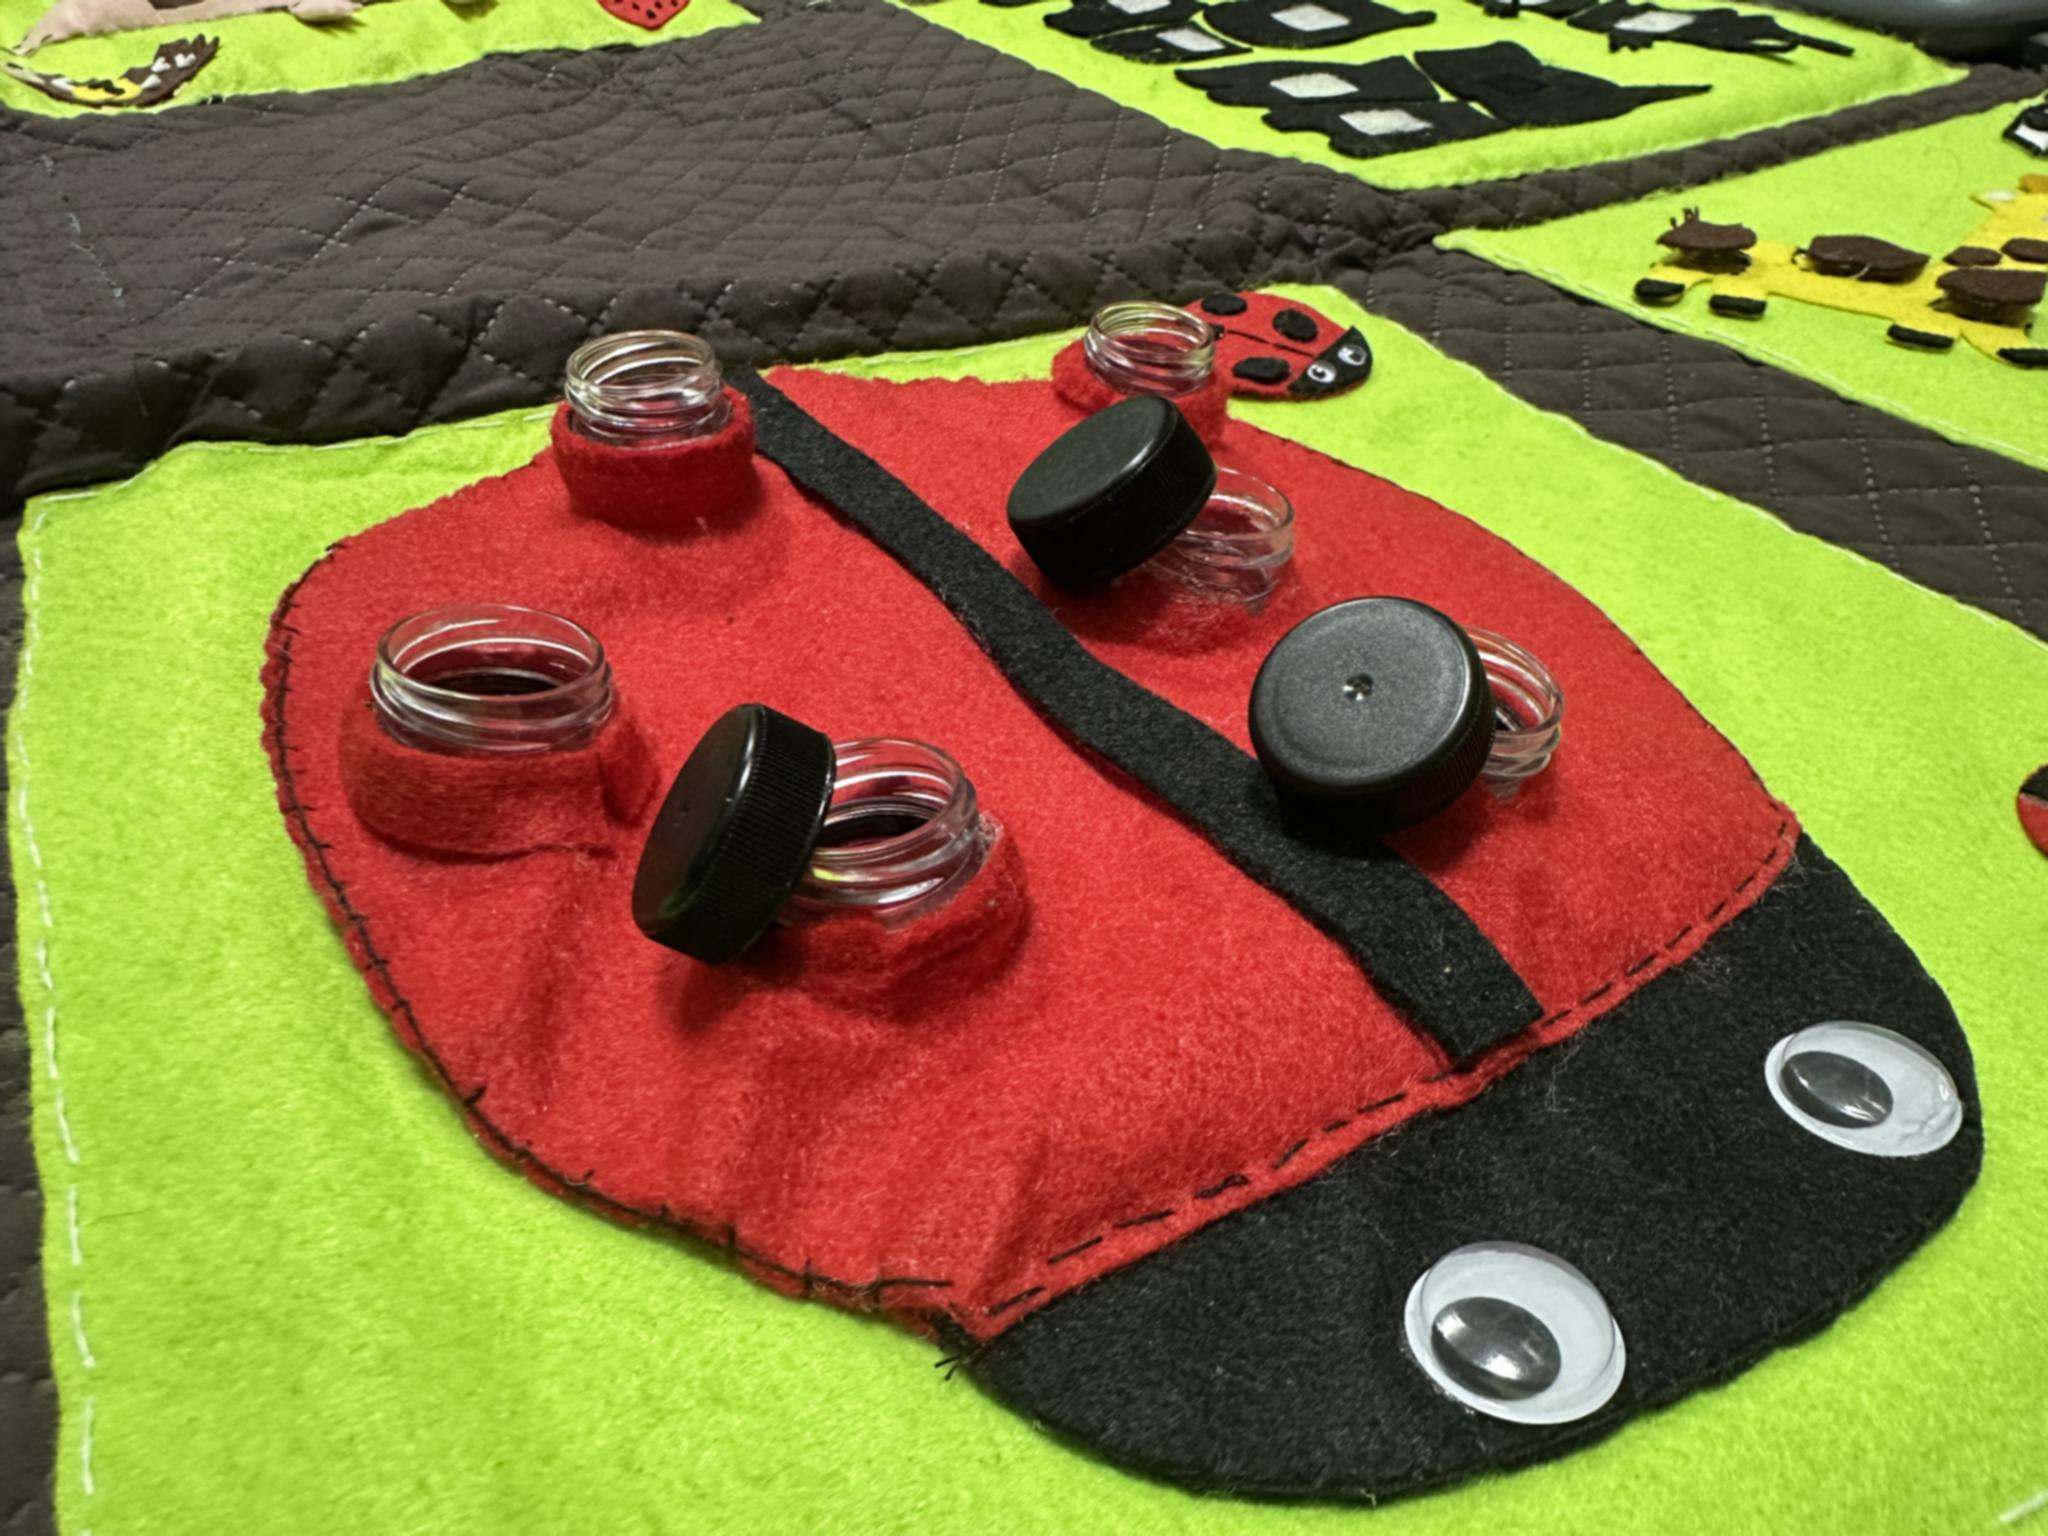cap_ng: (613, 653, 1037, 1015), (1222, 574, 1598, 863), (951, 402, 1338, 634)
